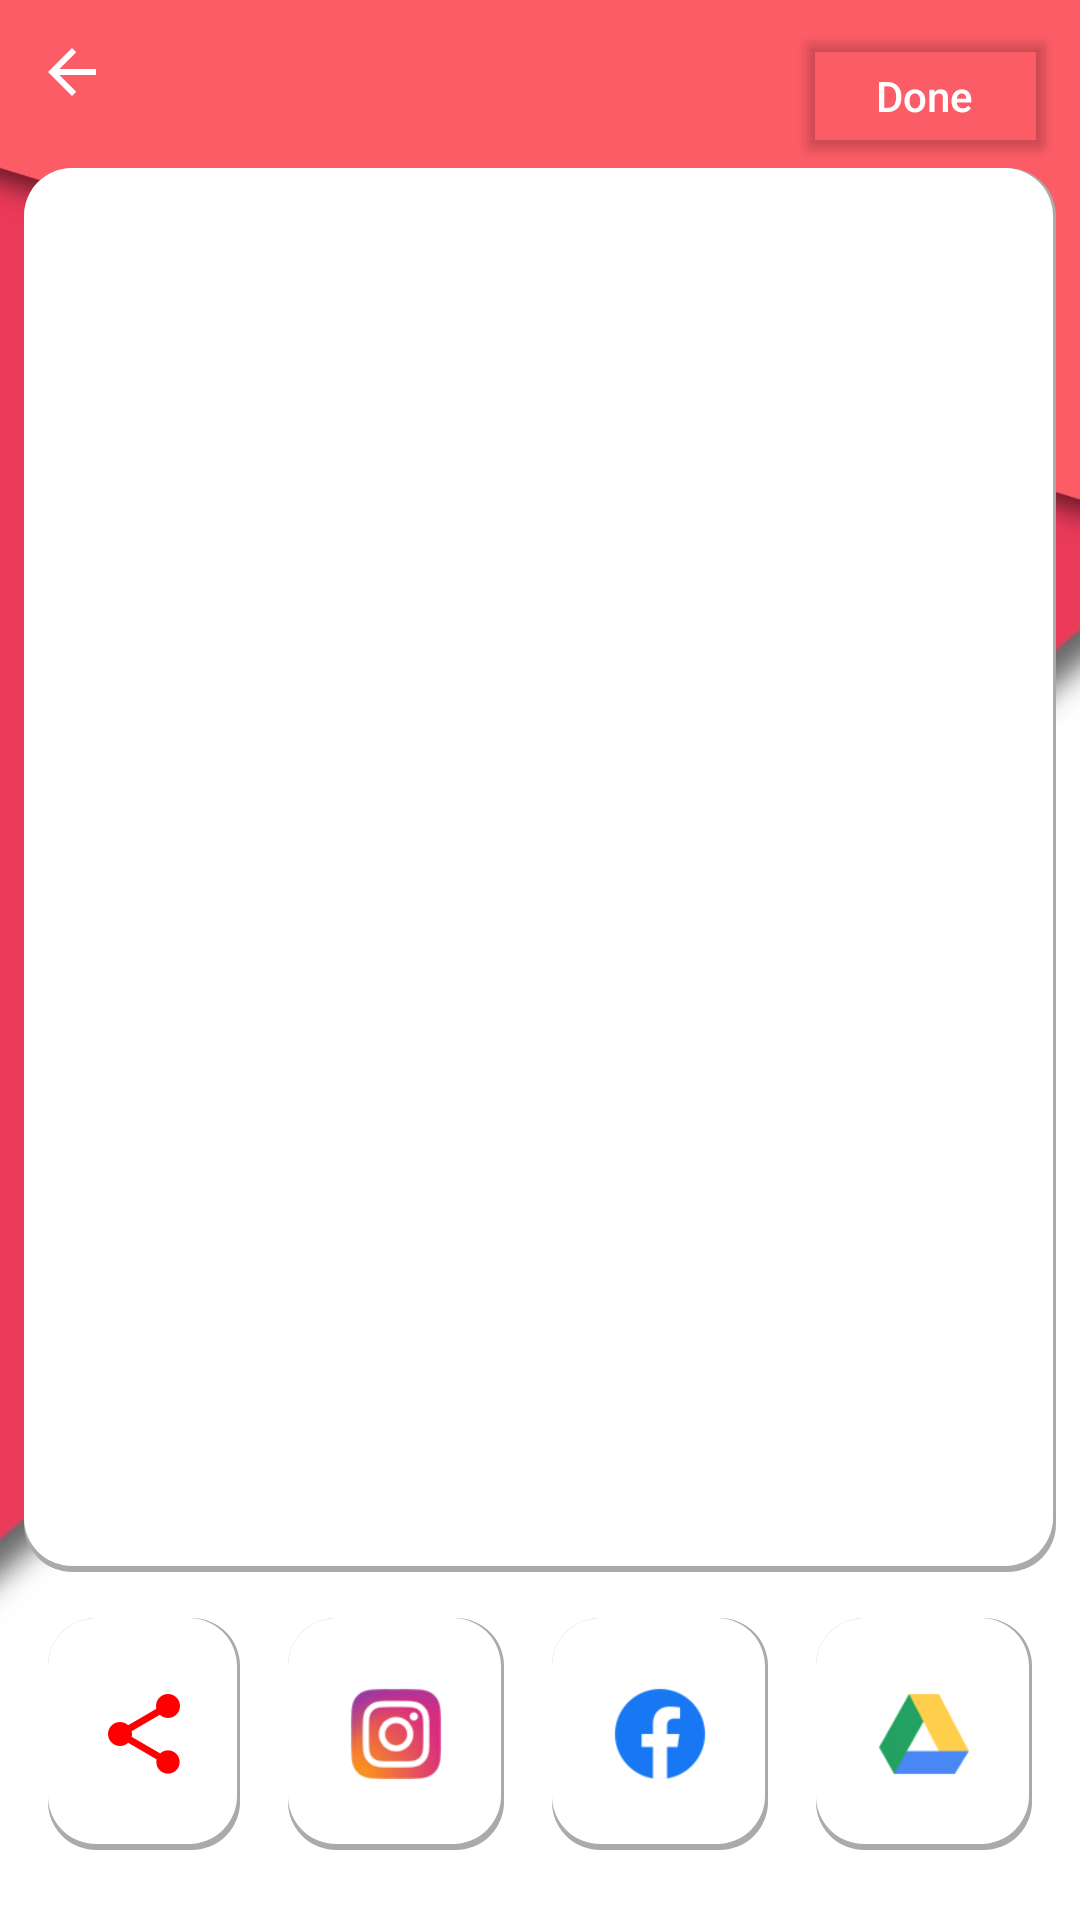

Locate icon controls on the screen. Image size 1080×1920, boxes as (x1, y1, x2, y2).
share: (48, 1618, 240, 1850)
